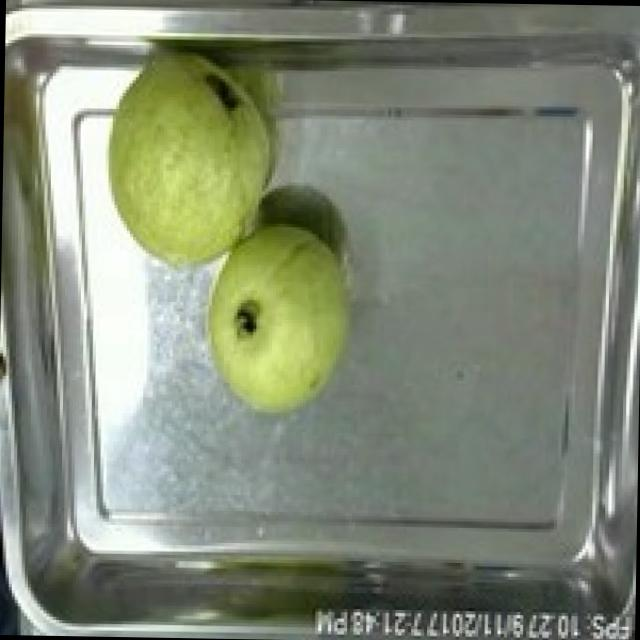Fruit: (87, 48, 289, 278), (190, 212, 367, 426)
